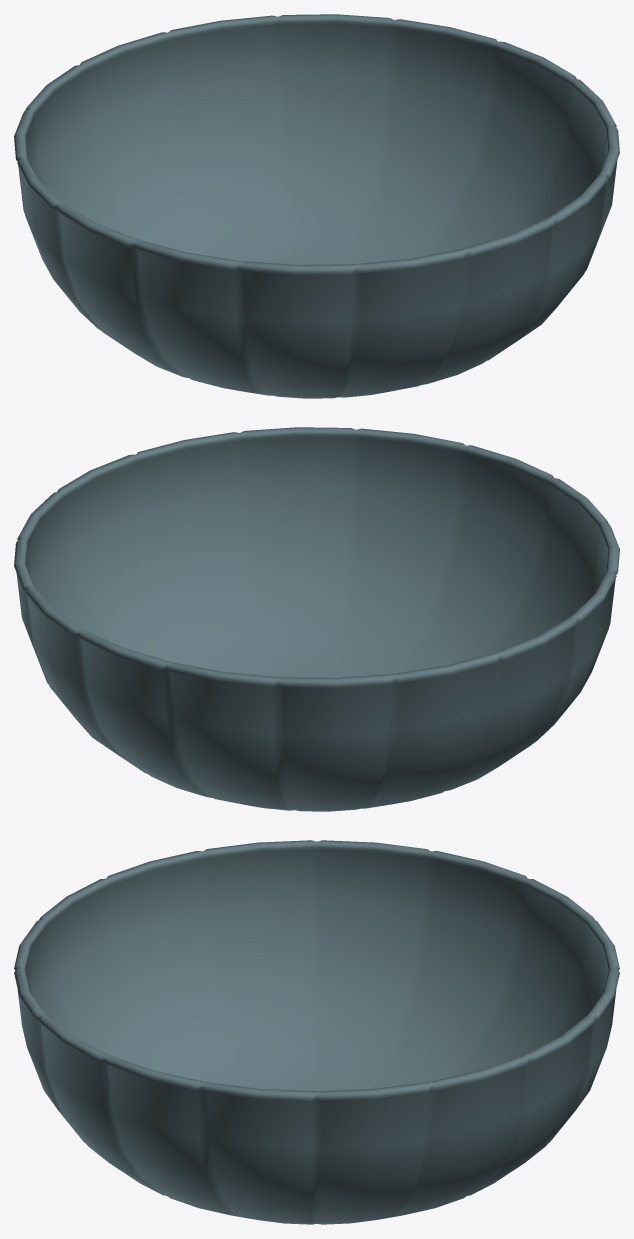
Rendered from Bol.fbx.
The picture shows the model from 3 angles, top to bottom: view 1: azimuth 30°, elevation 25°; view 2: azimuth 150°, elevation 25°; view 3: azimuth 270°, elevation 25°; orthographic projection.
Visible parts, largest first — view 1: Salad_Bowl; view 2: Salad_Bowl; view 3: Salad_Bowl.
Boxes of the visible parts, x1=… form: Salad_Bowl: x1=14, y1=14, x2=619, y2=398; Salad_Bowl: x1=14, y1=427, x2=619, y2=811; Salad_Bowl: x1=14, y1=840, x2=619, y2=1224.
Bounding box in the file's own units: 203 × 72.03 × 203.
